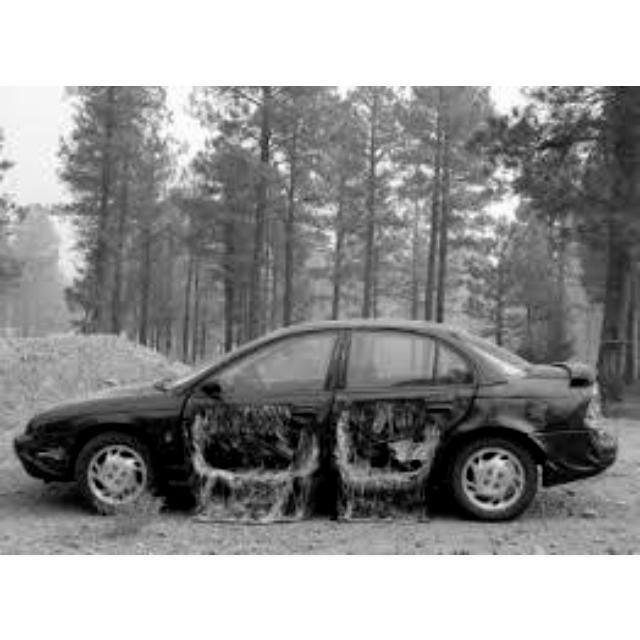doorouter-dent: (194, 381, 313, 515), (340, 396, 432, 515)
quaterpanel-dent: (477, 391, 574, 452)
